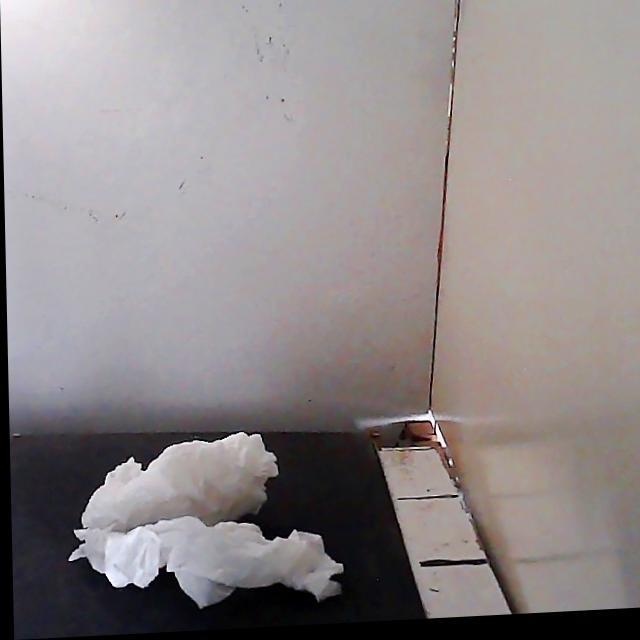papel: (69, 433, 342, 607)
